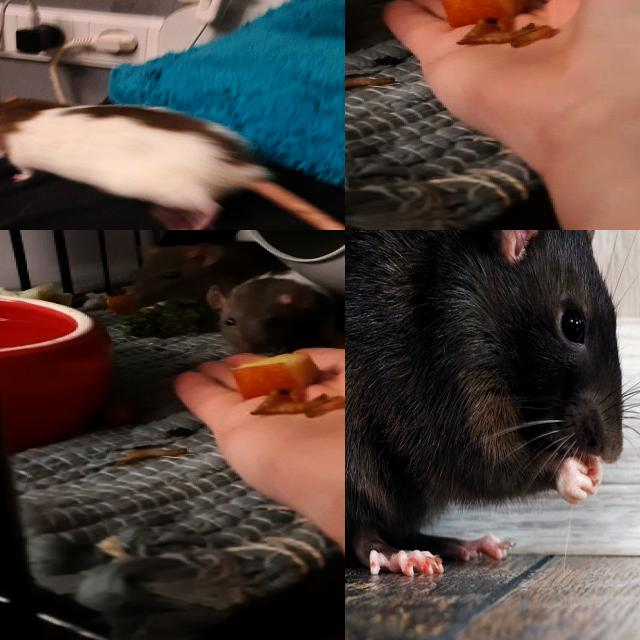rat: (345, 230, 640, 589), (0, 94, 274, 230), (202, 264, 345, 356), (124, 231, 278, 310)
